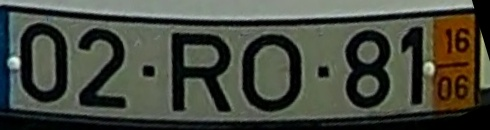0: (17, 19, 69, 106)
1: (399, 24, 425, 108)
2: (73, 24, 131, 109)
8: (342, 25, 393, 111)
O: (238, 29, 303, 115)
R: (168, 30, 235, 114)
